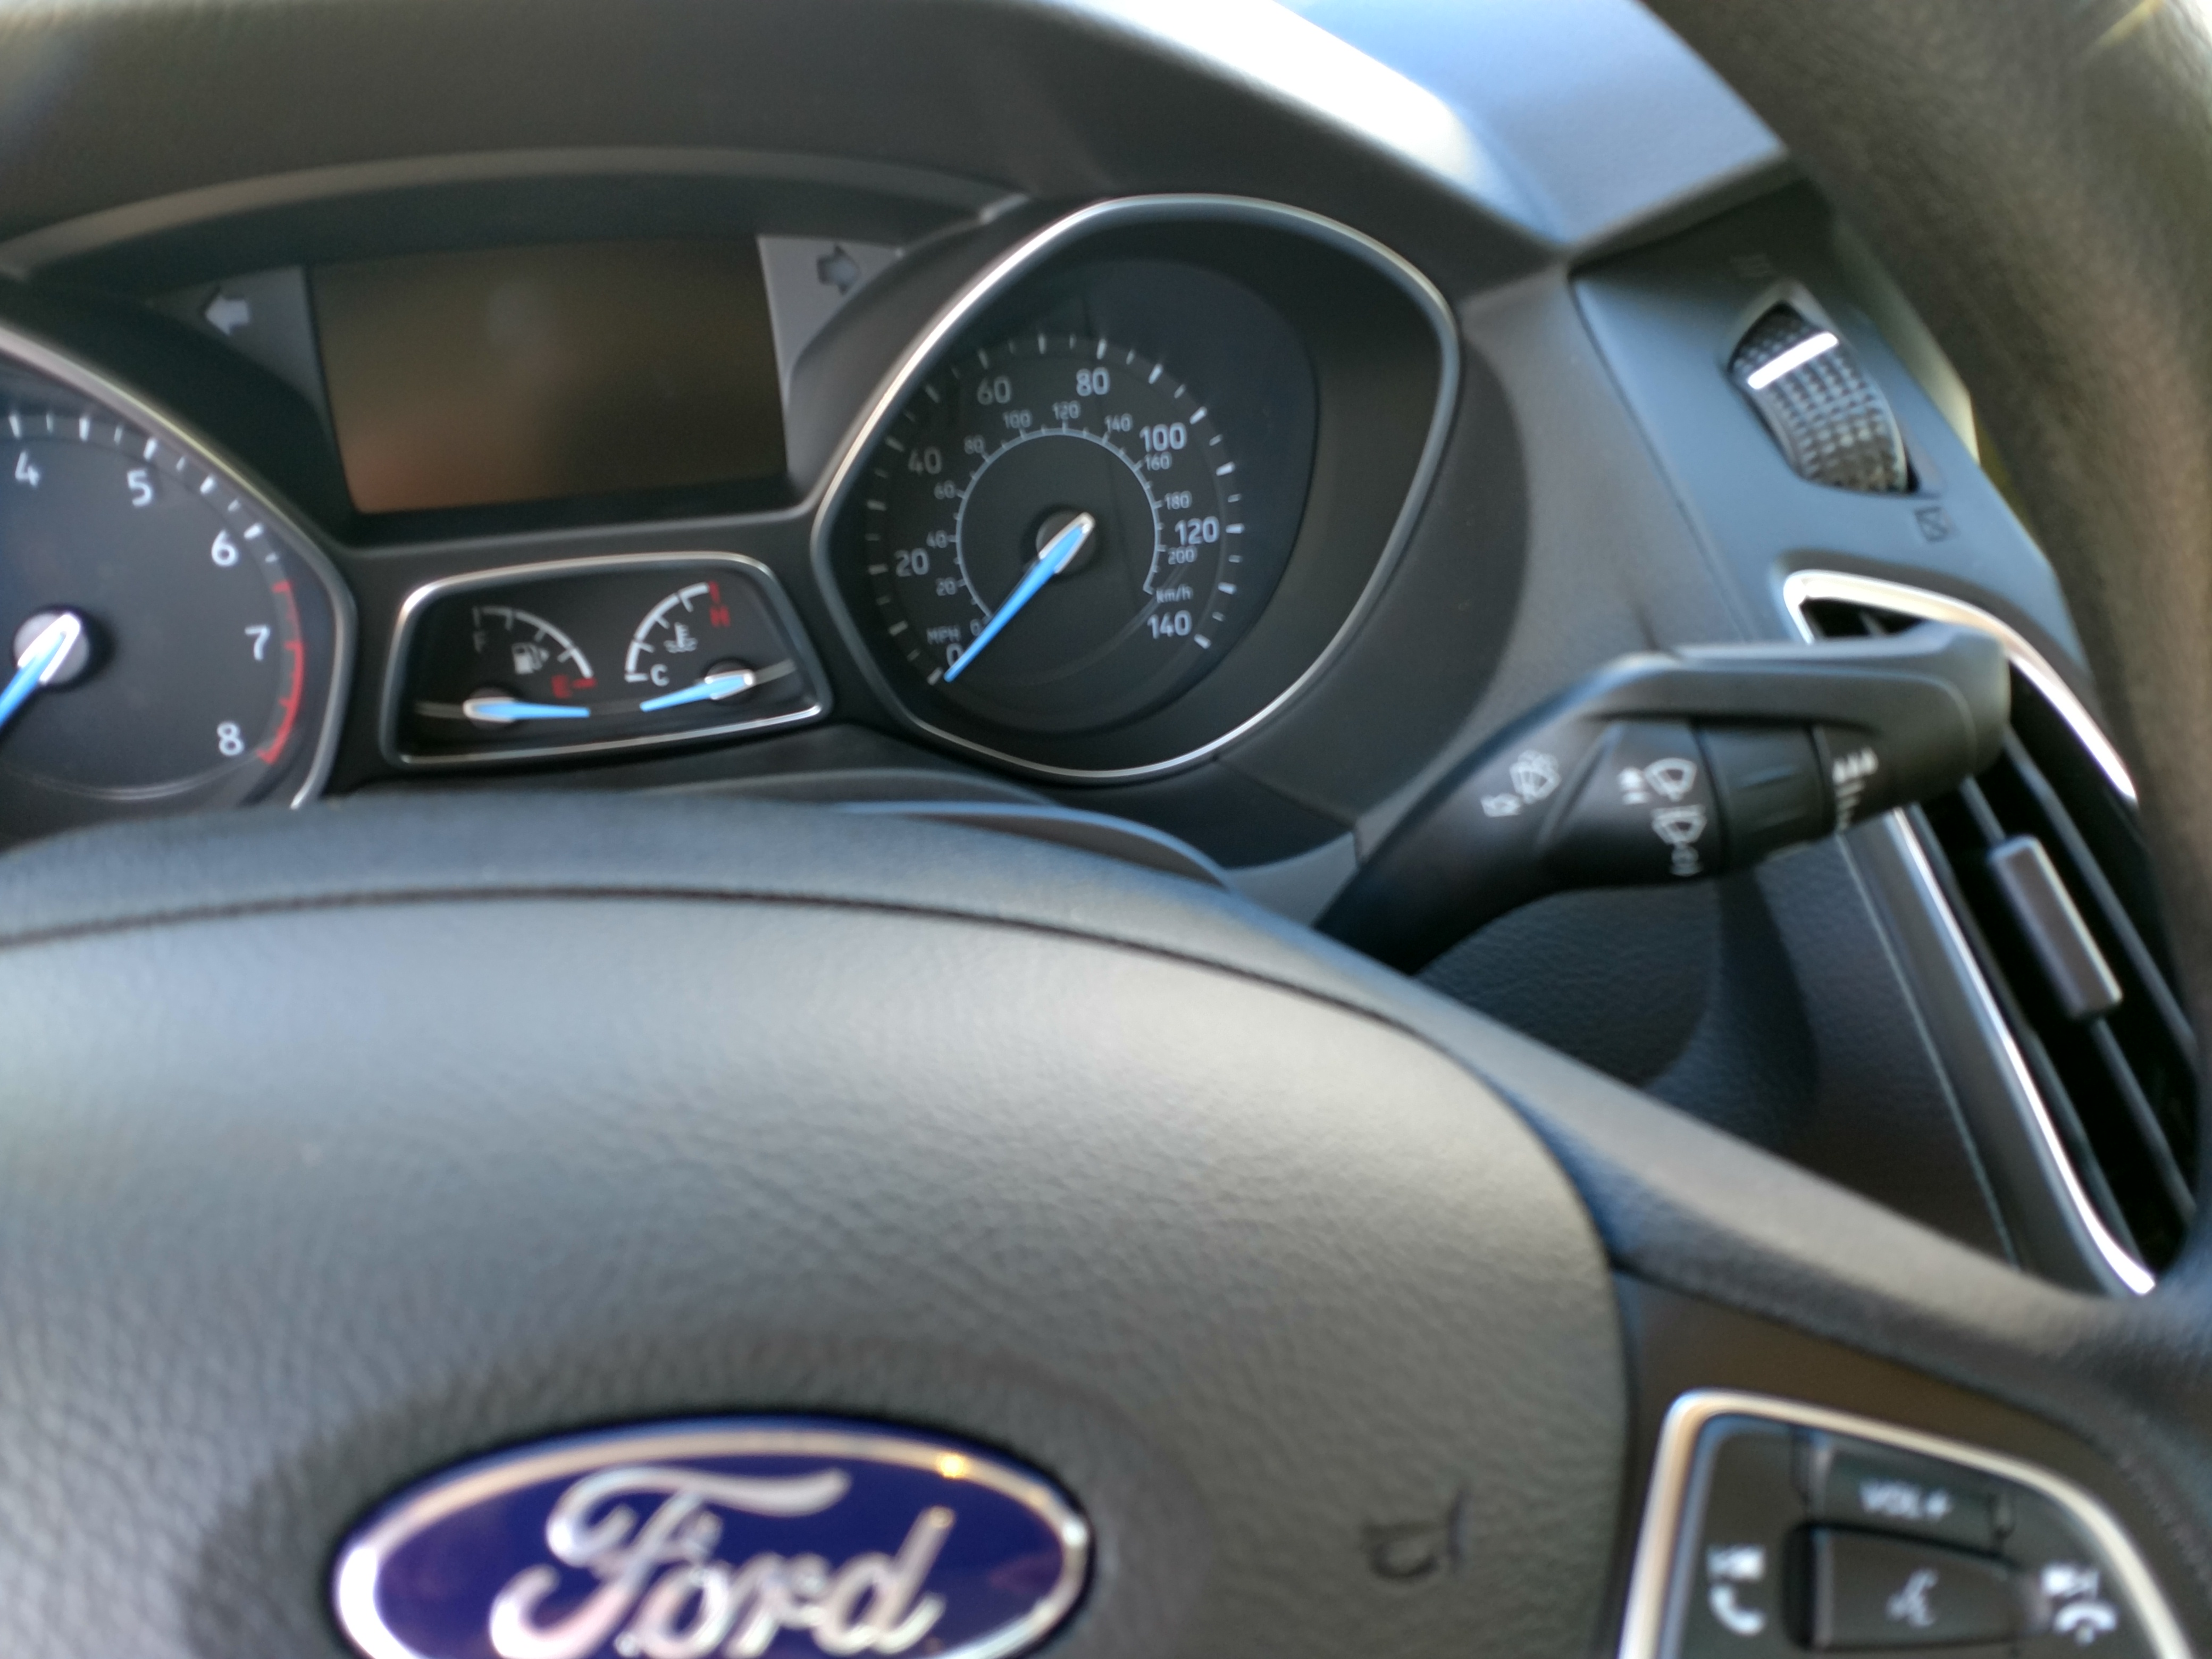Ford: (305, 1398, 1129, 1659)
